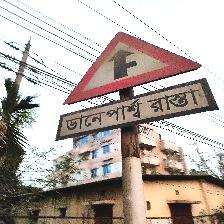Side-road-right: (54, 32, 219, 141)
